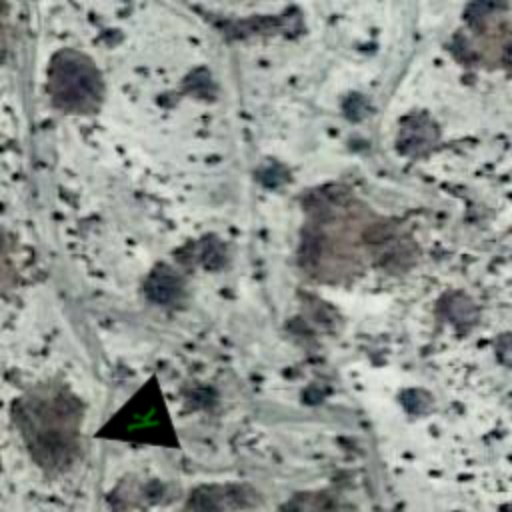triangle: (78, 372, 182, 476)
